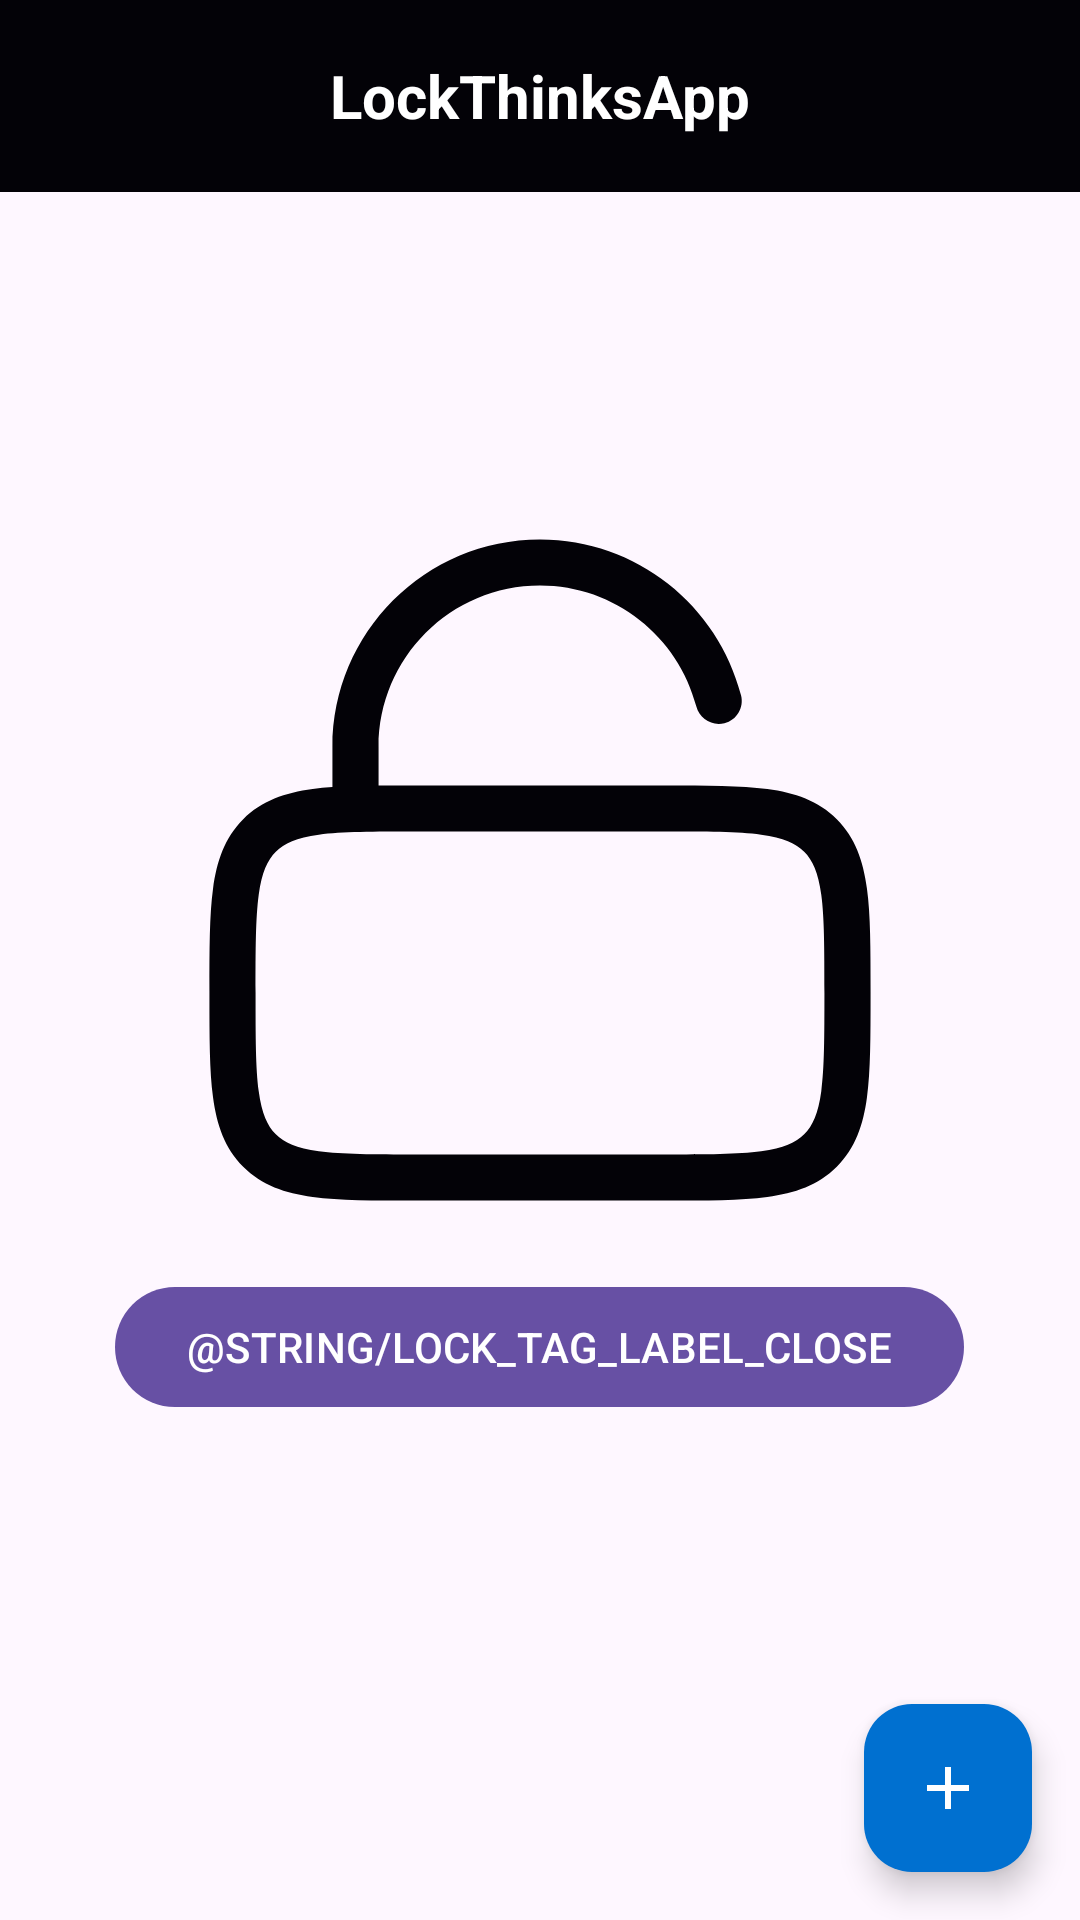

Icon bounding boxes for this 1080x1920 phone screenshot, format (x1, y1, x2, y2):
Add Tag: (864, 1704, 1032, 1872)
